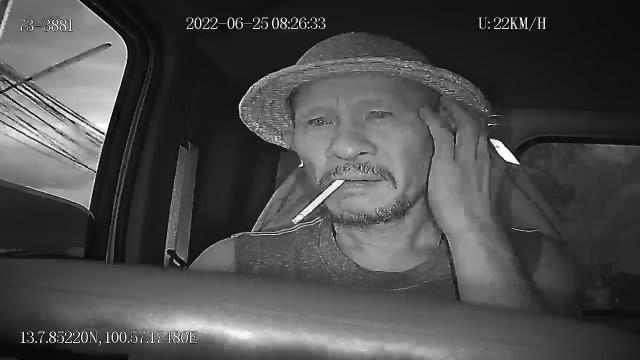SafeDriving: (361, 100, 404, 127), (301, 108, 339, 130)
Smoking: (290, 178, 344, 228)
